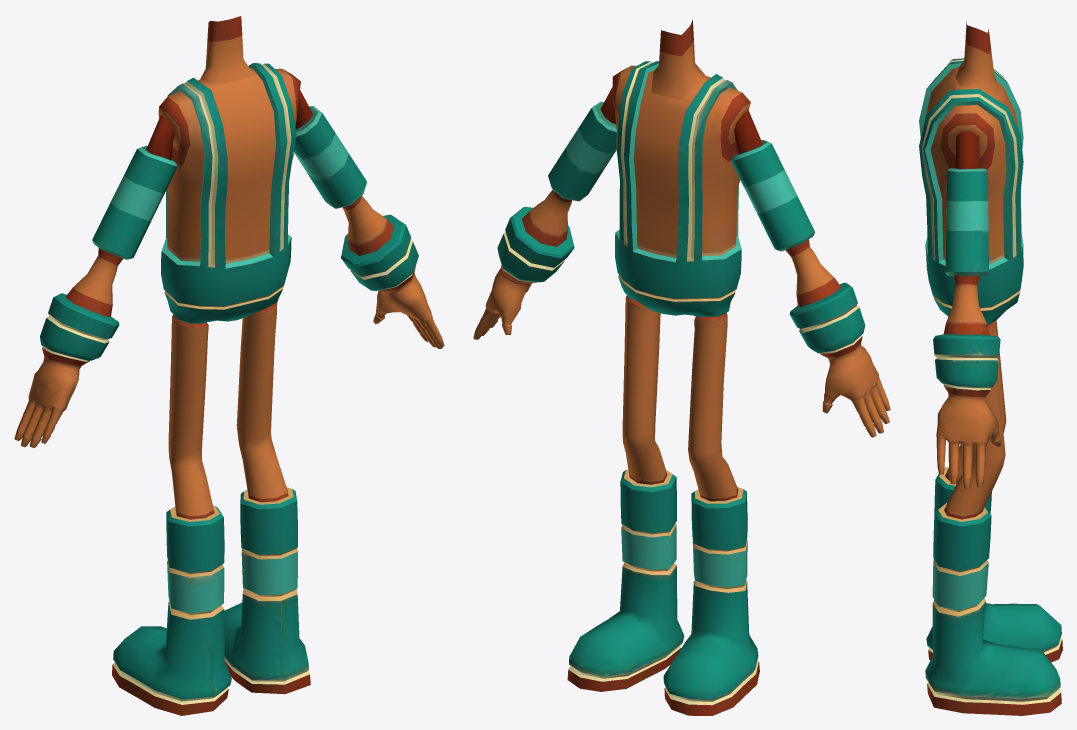
The model's file is lalobot.glb.
The picture shows the model from 3 angles, left to right: view 1: azimuth 30°, elevation 25°; view 2: azimuth 150°, elevation 25°; view 3: azimuth 270°, elevation 25°; orthographic projection. The views are drawn at different scales.
Parts seen in each view (by area): view 1: lalobot; view 2: lalobot; view 3: lalobot.
Boxes of the visible parts, x1=… form: lalobot: x1=14, y1=16, x2=444, y2=715; lalobot: x1=473, y1=20, x2=890, y2=715; lalobot: x1=919, y1=21, x2=1062, y2=715.
Size of the model in its own units: 0.9734 by 1.5 by 0.2972.
1 material, 1 textured.
